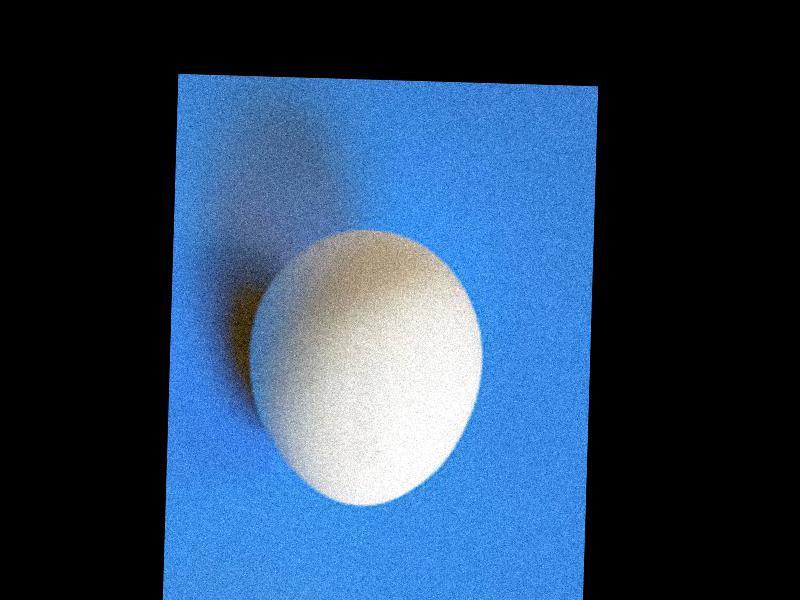Eggs: (243, 224, 485, 512)
